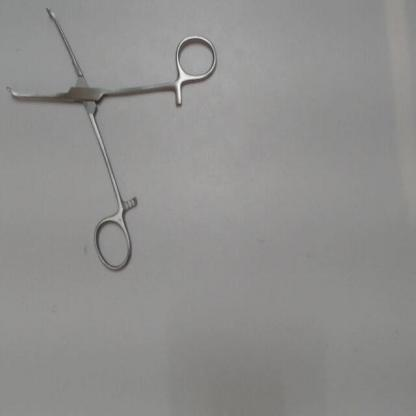Allis Tissue Forceps: (3, 2, 224, 277)
